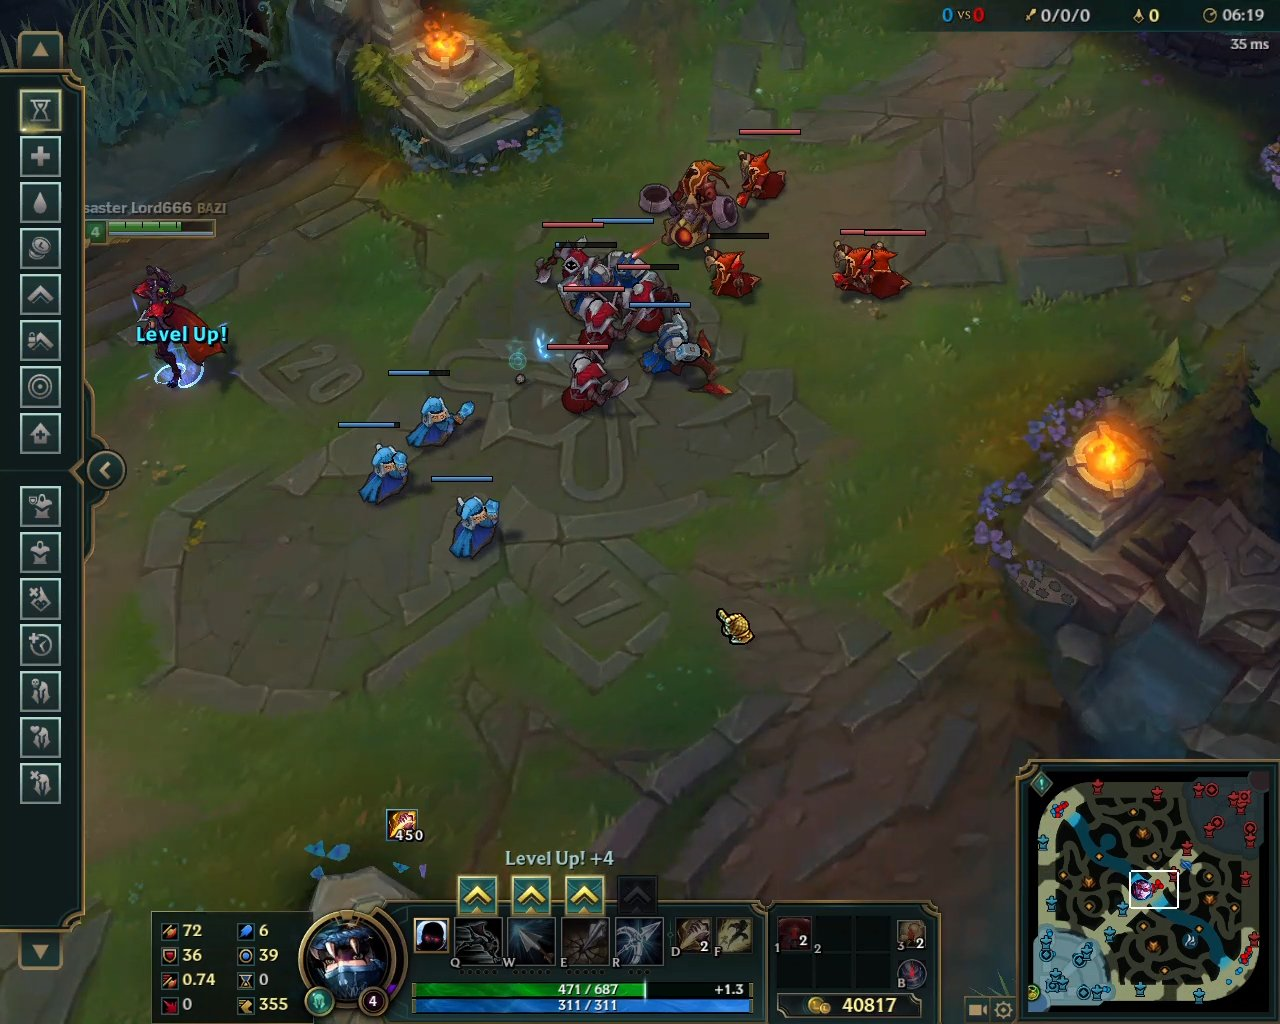EnemyMinion: (830, 229, 924, 307), (546, 342, 634, 422), (730, 127, 802, 215), (618, 263, 683, 333), (565, 285, 636, 350), (704, 234, 766, 297)
Vayne: (130, 260, 230, 394)
